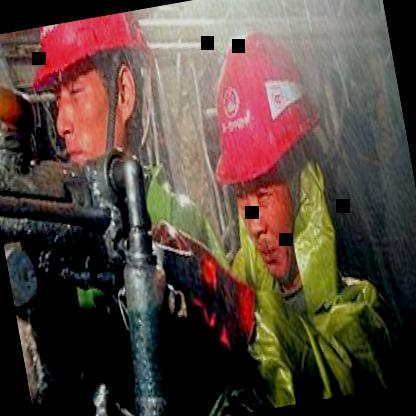helmet: (189, 10, 346, 294), (16, 9, 168, 184)
